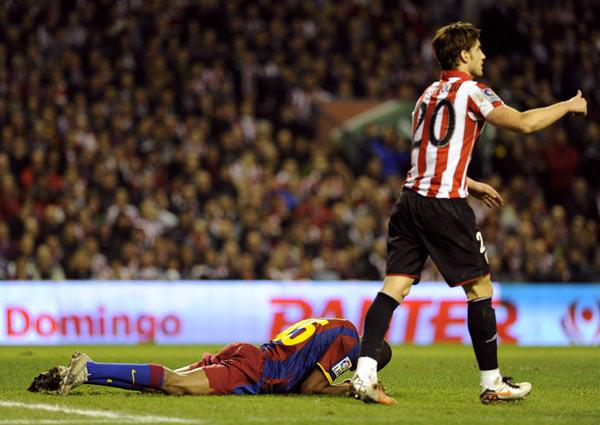down: (21, 305, 392, 400)
up: (359, 20, 597, 407)
